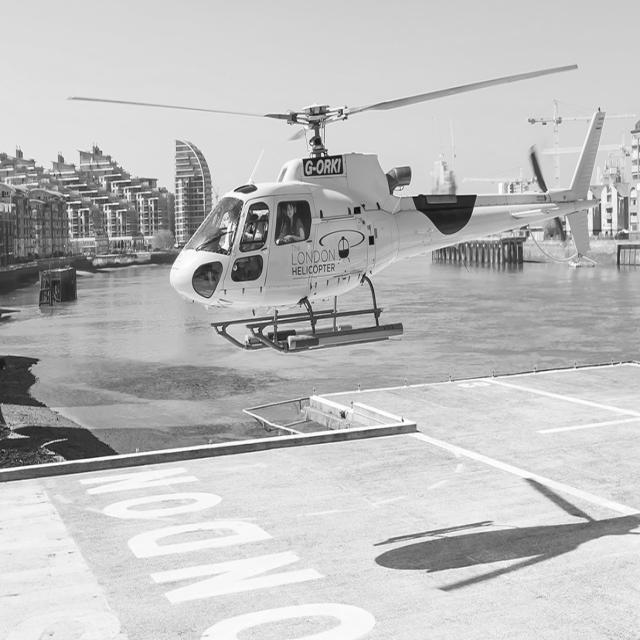helicopter: (68, 66, 606, 354)
